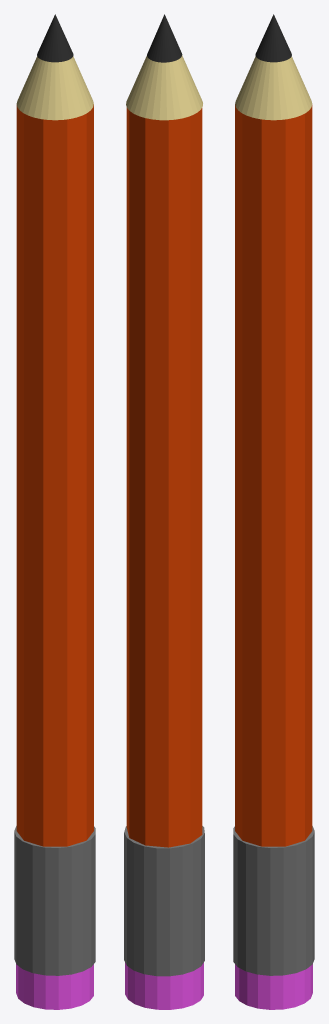
The model's file is pencil2.fbx.
The picture shows the model from 3 angles, left to right: view 1: azimuth 90°, elevation 25°; view 2: azimuth 150°, elevation 25°; view 3: azimuth 270°, elevation 25°; orthographic projection.
Parts seen in each view (by area): view 1: Cylinder, Cylinder.001, Cone, Cylinder.002, Cone.001; view 2: Cylinder, Cylinder.001, Cone, Cylinder.002, Cone.001; view 3: Cylinder, Cylinder.001, Cone, Cylinder.002, Cone.001.
Part boxes in pixels (left/top/right/bottom): Cylinder: left=16, top=104, right=93, bottom=846; Cylinder.001: left=14, top=826, right=95, bottom=975; Cone: left=16, top=56, right=93, bottom=120; Cylinder.002: left=16, top=964, right=93, bottom=1009; Cone.001: left=37, top=14, right=73, bottom=62; Cylinder: left=126, top=107, right=202, bottom=847; Cylinder.001: left=124, top=826, right=204, bottom=976; Cone: left=126, top=55, right=202, bottom=120; Cylinder.002: left=125, top=962, right=203, bottom=1009; Cone.001: left=147, top=14, right=182, bottom=62; Cylinder: left=235, top=104, right=312, bottom=846; Cylinder.001: left=233, top=826, right=314, bottom=975; Cone: left=235, top=56, right=312, bottom=120; Cylinder.002: left=235, top=964, right=312, bottom=1009; Cone.001: left=255, top=14, right=291, bottom=62.
Size of the model in its own units: 35.34 by 475 by 35.88.
